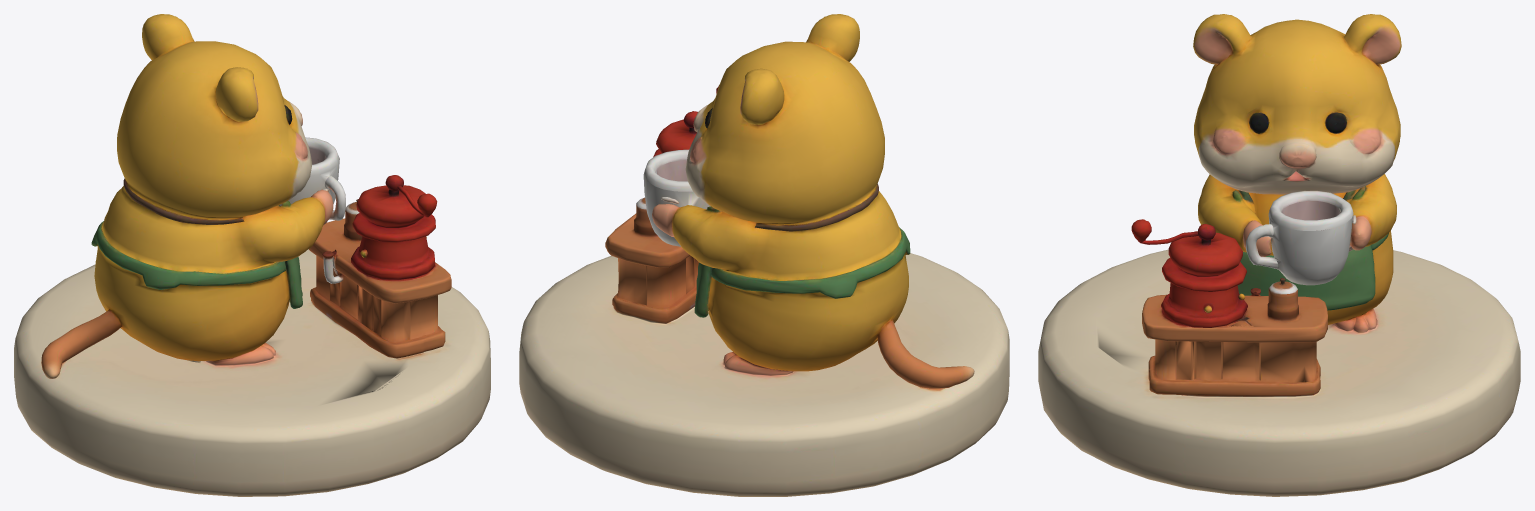
Rendered from HamsterBarista_0a2561fa.fbx.
3 views of the same model, side by side, from view 1: azimuth 30°, elevation 25°; view 2: azimuth 150°, elevation 25°; view 3: azimuth 270°, elevation 25° (orthographic). The views are drawn at different scales.
Visible parts, largest first — view 1: tripo_node_6f74cd47; view 2: tripo_node_6f74cd47; view 3: tripo_node_6f74cd47.
Part boxes in pixels (x1,y1,x2,y2): tripo_node_6f74cd47: (14,14,490,496); tripo_node_6f74cd47: (519,14,1009,496); tripo_node_6f74cd47: (1038,14,1520,496).
Bounding box in the file's own units: 99.61 × 83.37 × 100.
Materials: 1 (1 with a texture image).
